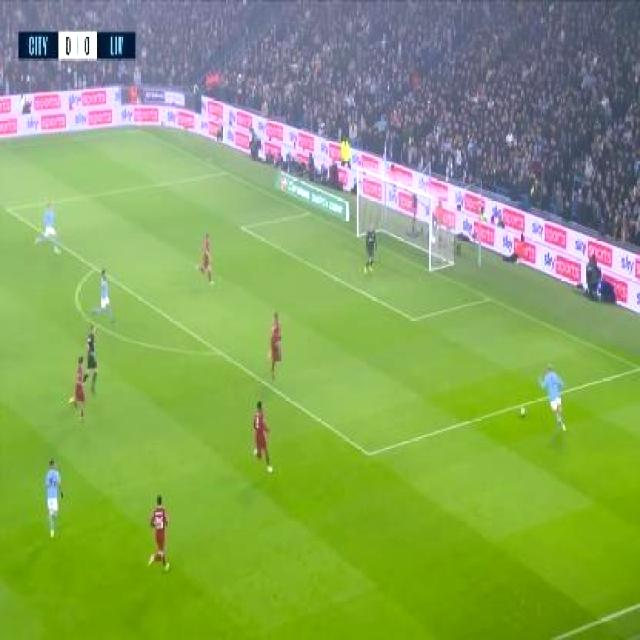bigarea_bottom_inner: (357, 439, 378, 466)
bigarea_bottom_outter: (629, 354, 640, 378)
bigarea_top_inner: (0, 198, 15, 218)
bigarea_top_outter: (218, 163, 232, 179)
bottom_arc_area_intersection: (212, 342, 228, 362)
corner: (128, 123, 144, 135)
smallarea_bottom_inner: (403, 304, 423, 330)
smallarea_bottom_outter: (478, 288, 497, 308)
smallarea_top_inner: (232, 217, 250, 237)
smallarea_top_outter: (302, 205, 316, 220)
top_arc_area_intersection: (89, 258, 103, 276)
